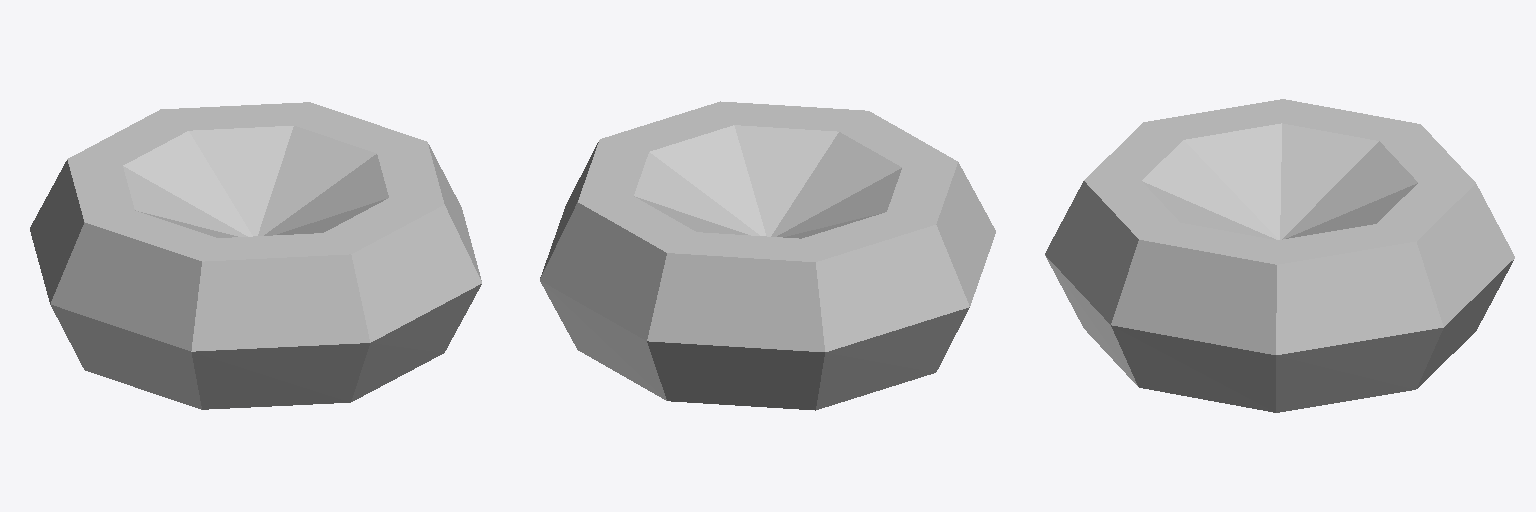
Rendered from coin.obj.
3 views of the same model, side by side, from view 1: azimuth 30°, elevation 25°; view 2: azimuth 150°, elevation 25°; view 3: azimuth 270°, elevation 25° (orthographic).
Visible parts, largest first — view 1: coin; view 2: coin; view 3: coin.
Part boxes in pixels (x1,y1,x2,y2): coin: (30, 102, 481, 409); coin: (540, 101, 995, 410); coin: (1045, 99, 1514, 412).
Bounding box in the file's own units: 0.36 × 0.125 × 0.36.